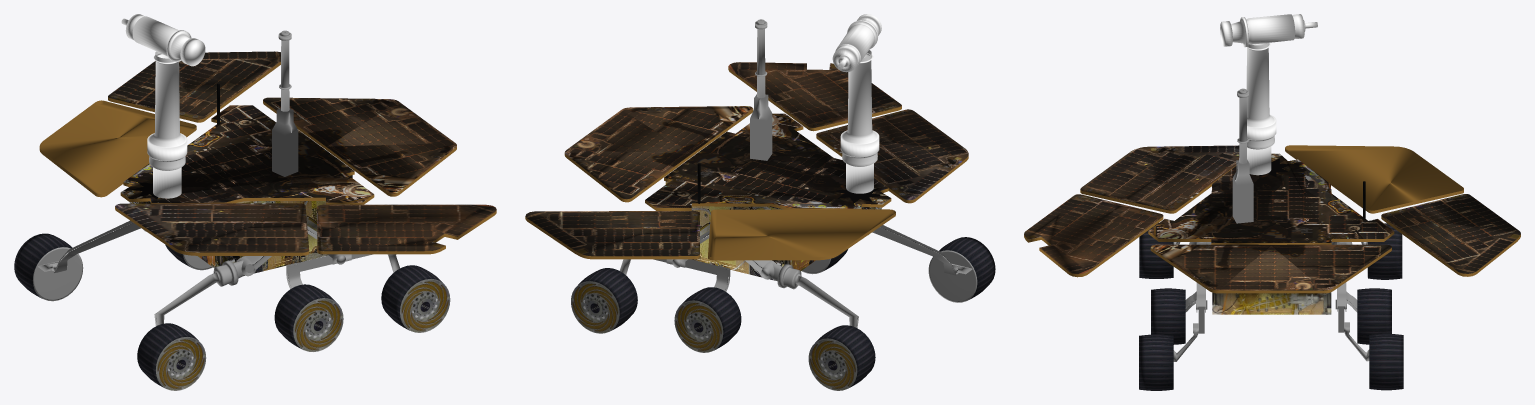
Rendered from mer copy.obj.
3 renders of one model, left to right at view 1: azimuth 30°, elevation 25°; view 2: azimuth 150°, elevation 25°; view 3: azimuth 270°, elevation 25°, orthographic. The views are drawn at different scales.
Visible parts, largest first — view 1: array_body, array_rear, array_fl, array_fr, array_fr01, array_br01, Line03, ML, FL, RL, FL01, Line02 (+9 smaller); view 2: array_body, array_rear, array_fr01, array_br01, array_fl, array_fr, Line03, ML01, FL01, RL01, FL, Line02 (+9 smaller); view 3: array_body, array_rear, array_fr01, array_fl, array_br01, array_fr, Line03, WEB, Line02, RL01, RL, ML (+7 smaller).
Part boxes in pixels (x1,y1,x2,y2): array_body: (120, 105, 374, 204); array_rear: (263, 97, 456, 196); array_fl: (115, 203, 309, 255); array_fr: (317, 204, 496, 254); array_fr01: (39, 100, 196, 197); array_br01: (108, 51, 280, 122); Line03: (147, 51, 187, 198); ML: (274, 284, 343, 351); FL: (137, 323, 206, 390); RL: (381, 265, 450, 332); FL01: (14, 233, 83, 301); Line02: (121, 14, 205, 66); array_body: (645, 113, 891, 210); array_rear: (564, 106, 753, 202); array_fr01: (708, 209, 895, 260); array_br01: (525, 211, 699, 259); array_fl: (816, 109, 968, 203); array_fr: (728, 62, 901, 131); Line03: (840, 50, 879, 193); ML01: (674, 287, 741, 352); FL01: (808, 325, 875, 390); RL01: (571, 268, 637, 333); FL: (928, 237, 995, 302); Line02: (832, 14, 881, 72); array_body: (1148, 153, 1394, 244); array_rear: (1150, 244, 1391, 293); array_fr01: (1285, 145, 1463, 213); array_fl: (1080, 145, 1239, 213); array_br01: (1381, 194, 1520, 276); array_fr: (1024, 194, 1163, 277); Line03: (1246, 42, 1276, 175); WEB: (1212, 189, 1331, 314); Line02: (1220, 14, 1317, 47); RL01: (1369, 333, 1403, 390); RL: (1139, 334, 1173, 390); ML: (1151, 288, 1185, 344).
Size of the model in its own units: 67.12 by 57.26 by 90.59.
20 materials, 15 textured.
